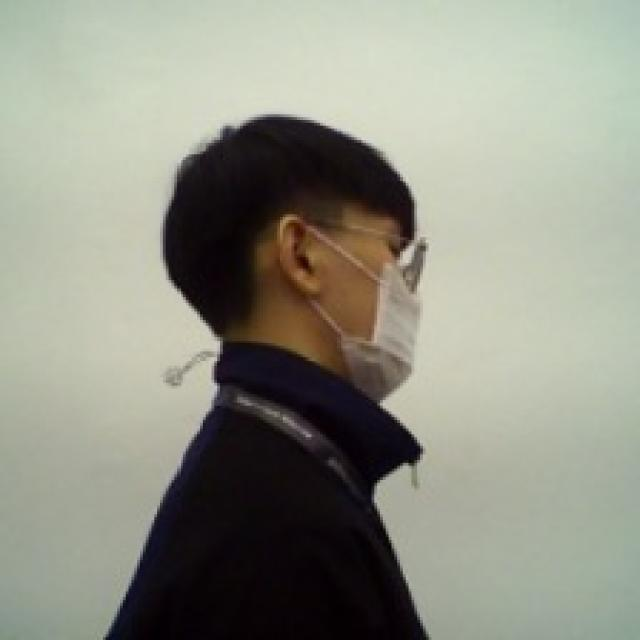mask: (262, 206, 430, 408)
no_gloves: (156, 107, 413, 333)
